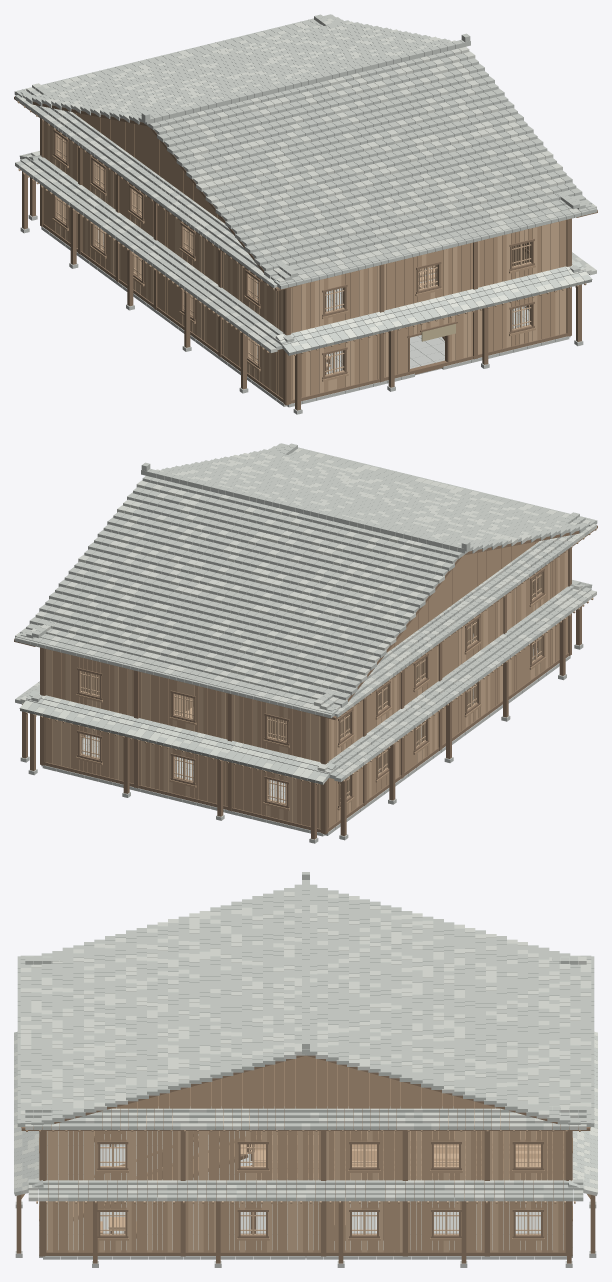
The model's file is Inn_v2_build003.fbx.
The picture shows the model from 3 angles, top to bottom: view 1: azimuth 30°, elevation 25°; view 2: azimuth 150°, elevation 25°; view 3: azimuth 270°, elevation 25°; orthographic projection. The views are drawn at different scales.
Parts seen in each view (by area): view 1: Tiles.012, Tiles.013, Tiles.017, TileCourses, Tiles.014, Planks.083, Planks.081, Planks.085, Gable_W.002, Planks.080, Planks.084, Ridge.003 (+17 smaller); view 2: Tiles.013, Tiles.012, Tiles.017, TileCourses, Tiles.015, Planks.089, Planks.087, Planks.091, Gable_W.002, Planks.088, Planks.086, Planks.090 (+17 smaller); view 3: Tiles.013, Tiles.012, Tiles.016, TileCourses.001, Gable_E.002, Planks.094, Planks.092, Planks.095, Planks.093, Ground_Stone.002, Planks.100, Planks.099 (+21 smaller).
Part boxes in pixels (x1,y1,x2,y2): Tiles.012: [147, 47, 595, 287]; Tiles.013: [16, 14, 455, 125]; Tiles.017: [15, 151, 294, 352]; TileCourses: [15, 83, 297, 288]; Tiles.014: [275, 262, 592, 355]; Planks.083: [384, 242, 472, 310]; Planks.081: [291, 265, 379, 333]; Planks.085: [478, 220, 565, 287]; Gable_W.002: [73, 112, 224, 223]; Planks.080: [291, 334, 379, 399]; Planks.084: [478, 288, 565, 354]; Ridge.003: [143, 40, 470, 124]; Tiles.013: [16, 476, 463, 716]; Tiles.012: [156, 443, 595, 554]; Tiles.017: [317, 580, 596, 781]; TileCourses: [314, 512, 596, 717]; Tiles.015: [19, 691, 336, 784]; Planks.089: [139, 671, 227, 739]; Planks.087: [232, 694, 320, 762]; Planks.091: [46, 649, 133, 716]; Gable_W.002: [387, 541, 538, 652]; Planks.088: [139, 740, 227, 806]; Planks.086: [232, 763, 320, 828]; Planks.090: [46, 717, 133, 783]; Tiles.013: [305, 884, 591, 1126]; Tiles.012: [20, 884, 306, 1126]; Tiles.016: [28, 1179, 583, 1201]; TileCourses.001: [25, 1106, 586, 1129]; Gable_E.002: [102, 1056, 509, 1118]; Planks.094: [185, 1197, 320, 1252]; Planks.092: [46, 1197, 180, 1252]; Planks.095: [185, 1131, 320, 1183]; Planks.093: [46, 1131, 180, 1183]; Ground_Stone.002: [47, 1131, 563, 1257]; Planks.100: [490, 1197, 565, 1252]; Planks.099: [408, 1131, 484, 1183].
Size of the model in its own units: 2323 by 1422 by 3327.
